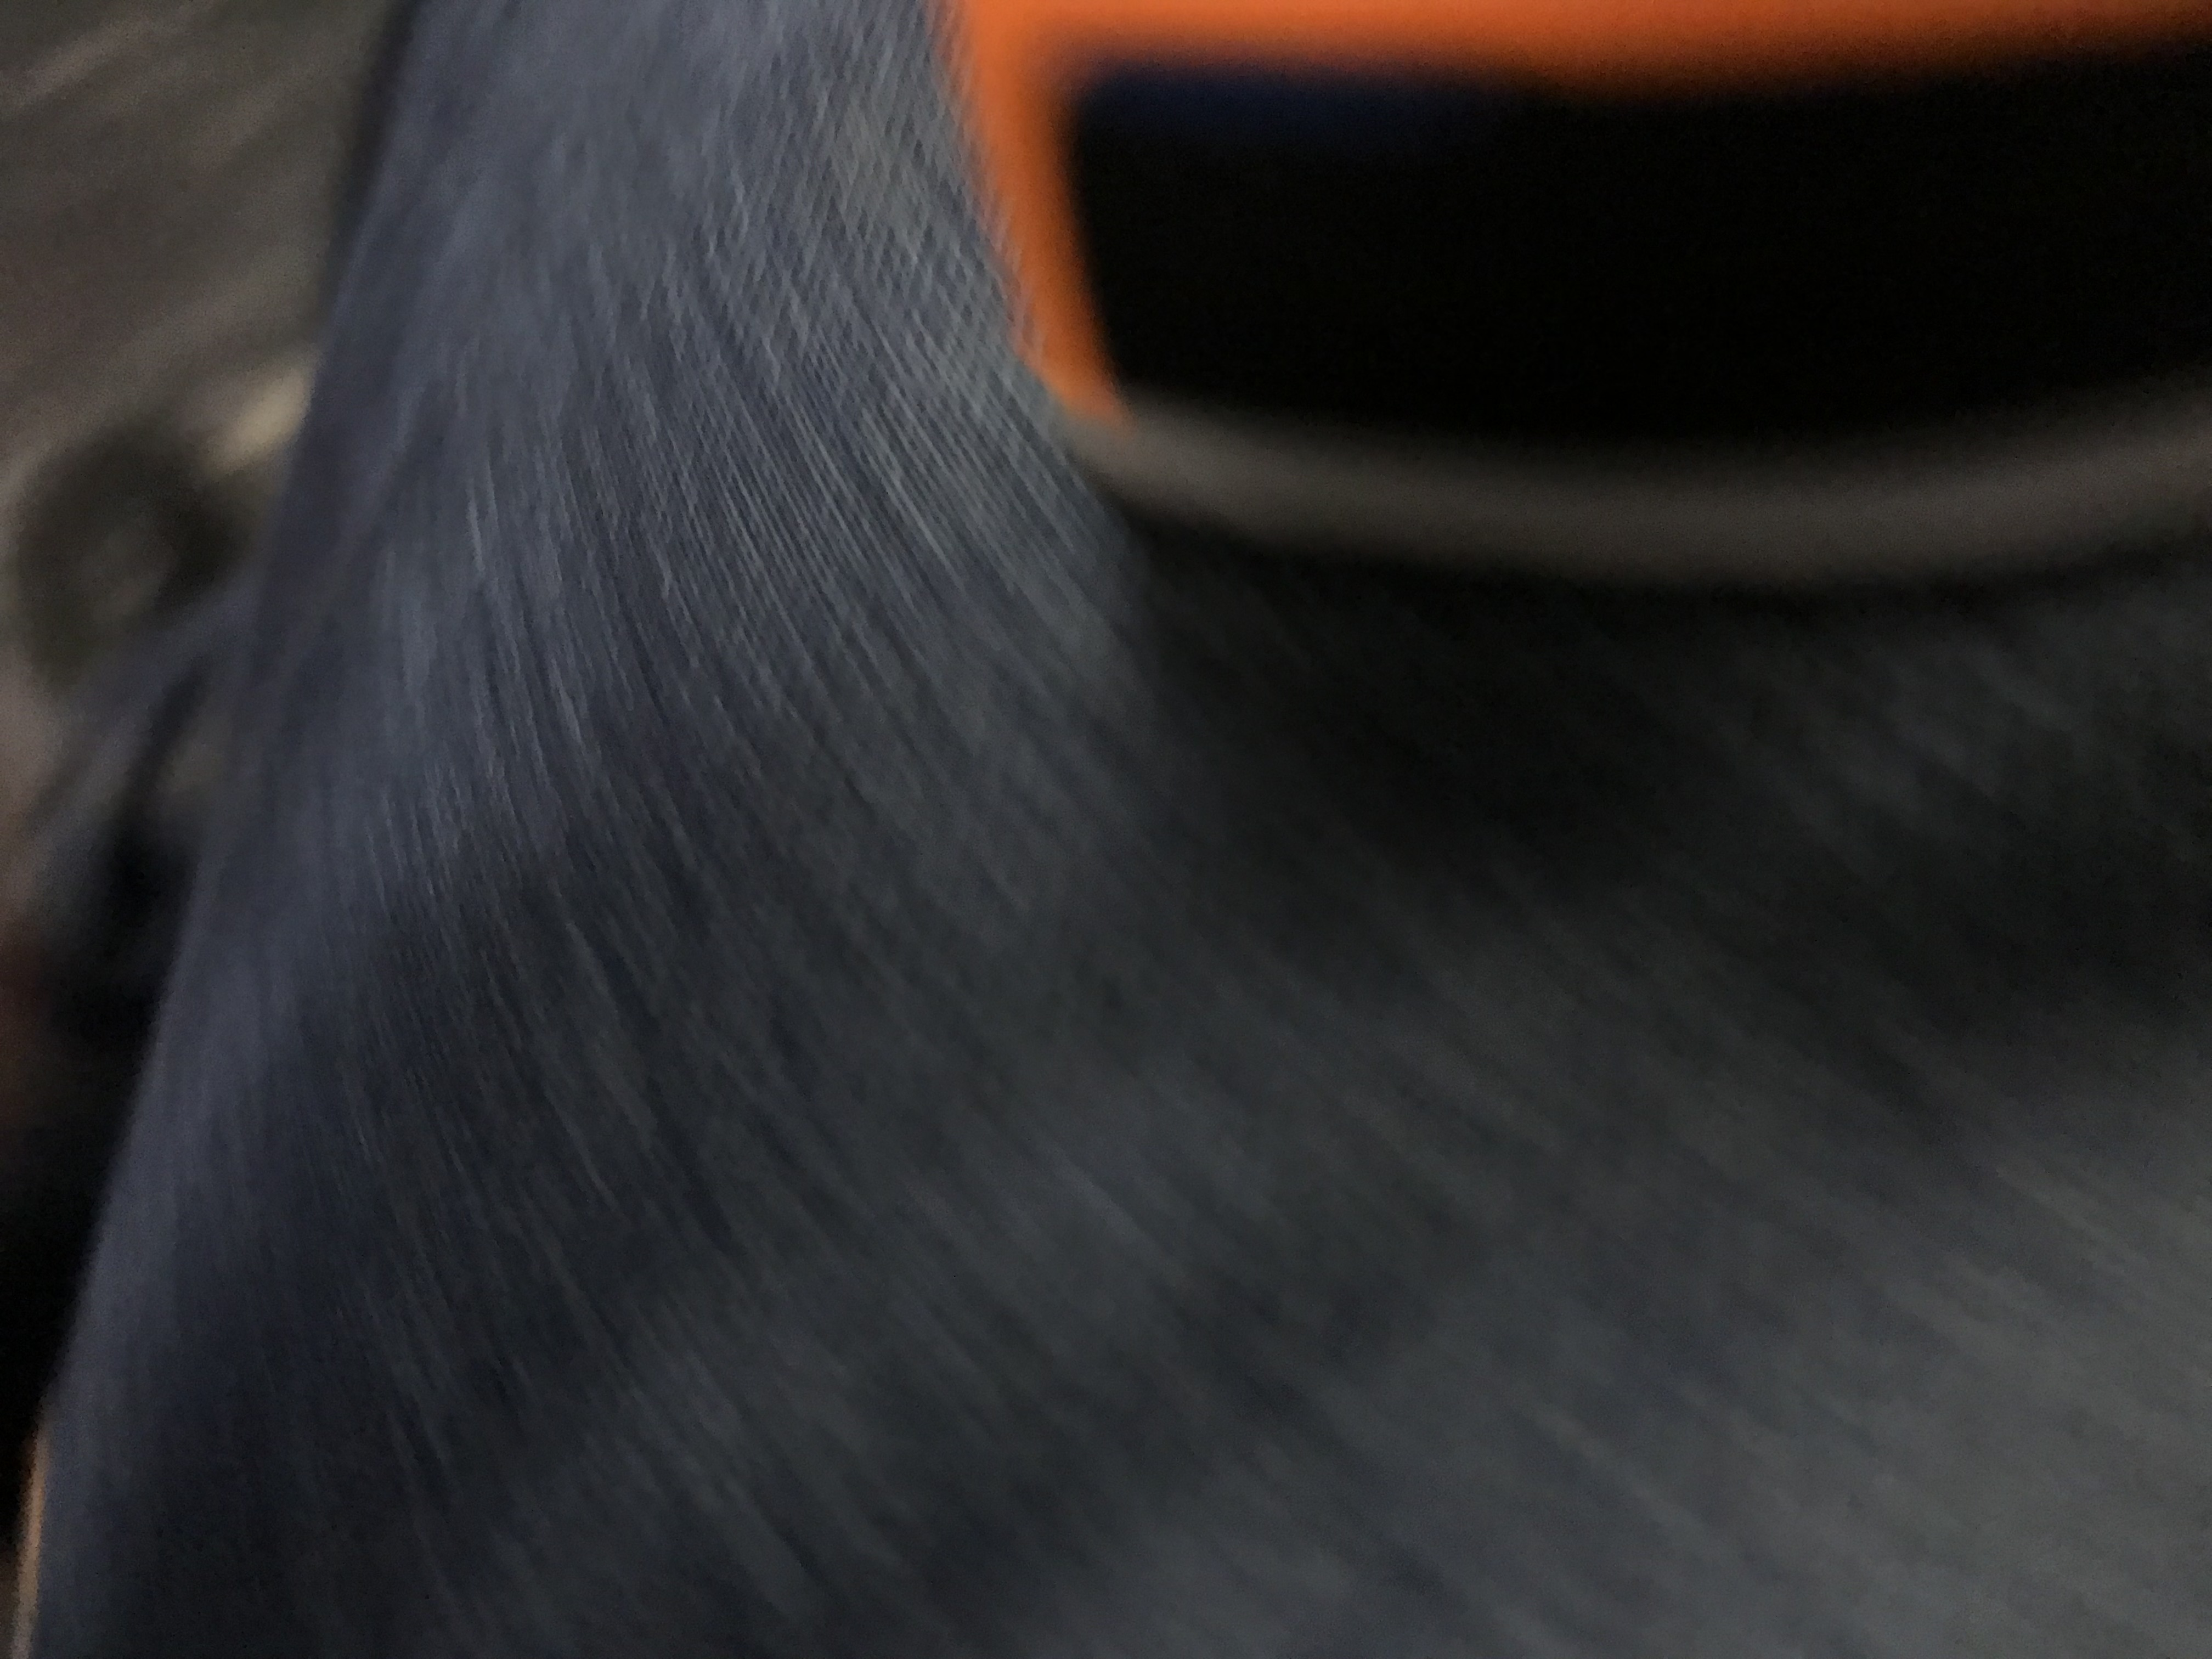amazon_bot: (932, 21, 2212, 603)
